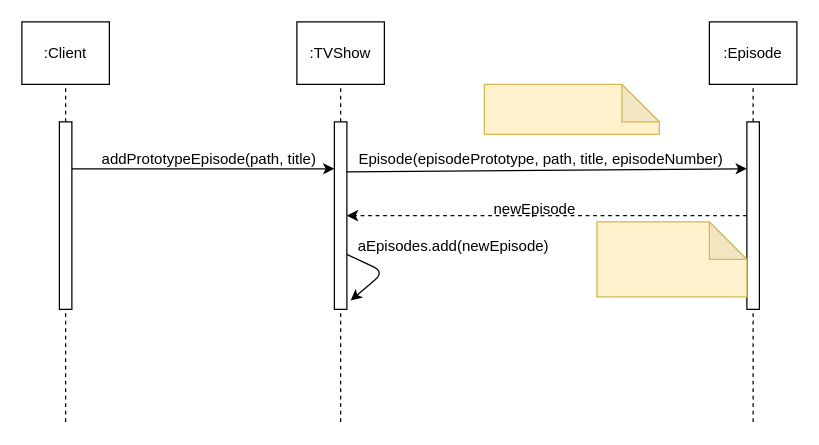
This 819x445 diagram has some shape labels left out. The box of each missing label's shape, as (x1, y1, x2, y2) in pixels:
Constructor for Episode: (483, 83, 659, 134)
The Episode created has the same Custom info as the prototype: (596, 221, 747, 297)
